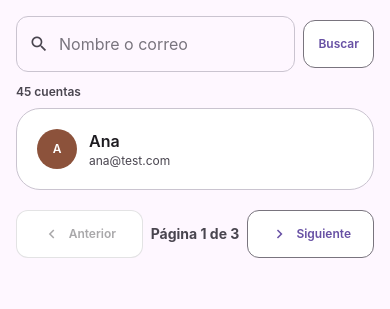
con varias páginas, «Siguiente» pide la 2; sin resultados lo dice con el texto buscado
Expected: the text "Página 1 de 3" is shown, [151,225,239,243]
Click the text "Siguiente".
click(324, 234)  # box [296,226,351,242]
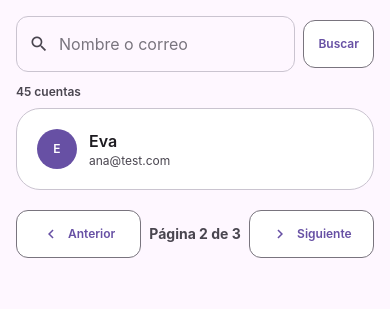
Now the text "Eva" is shown, box [89,130,117,150]
Now the text "Página 2 de 3" is shown, box [149,225,241,243]
Type "zzz" into the field named "Buscar usuarios".
click(183, 44); type("zzz")  # box [59,32,307,56]
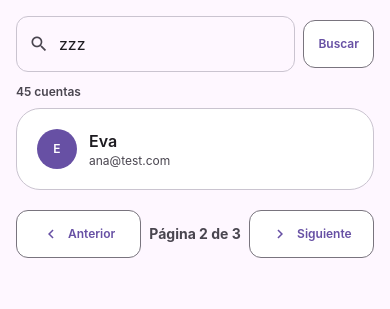
Press Enter in the field named "Buscar usuarios", box [59,32,307,56]
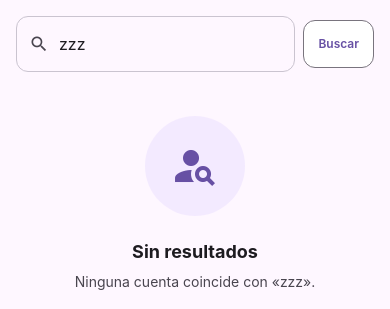
Now the text "Ninguna cuenta coincide con «zzz»." is shown, box [75,272,315,292]
